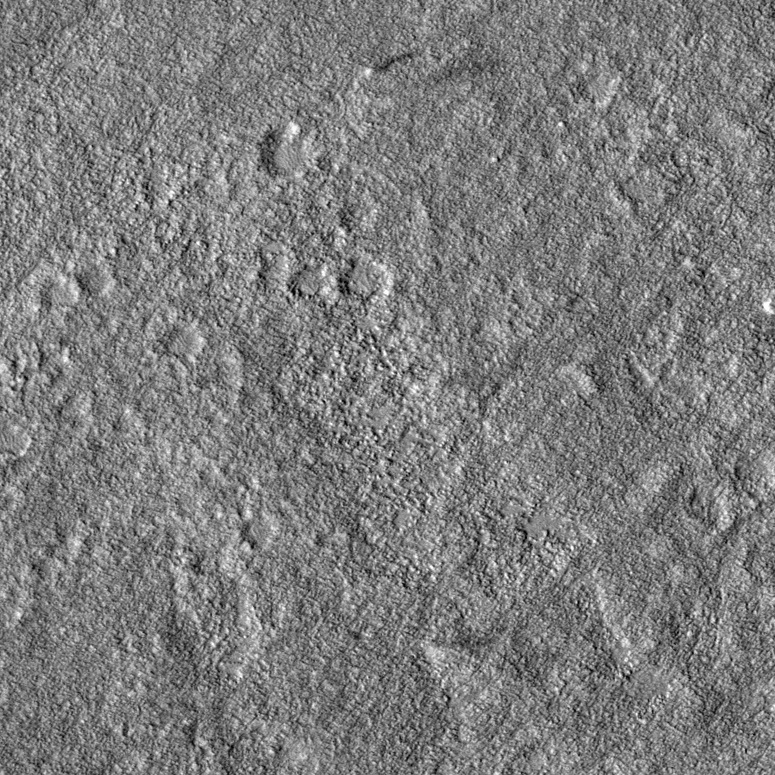dust_devil: (363, 49, 416, 81)
